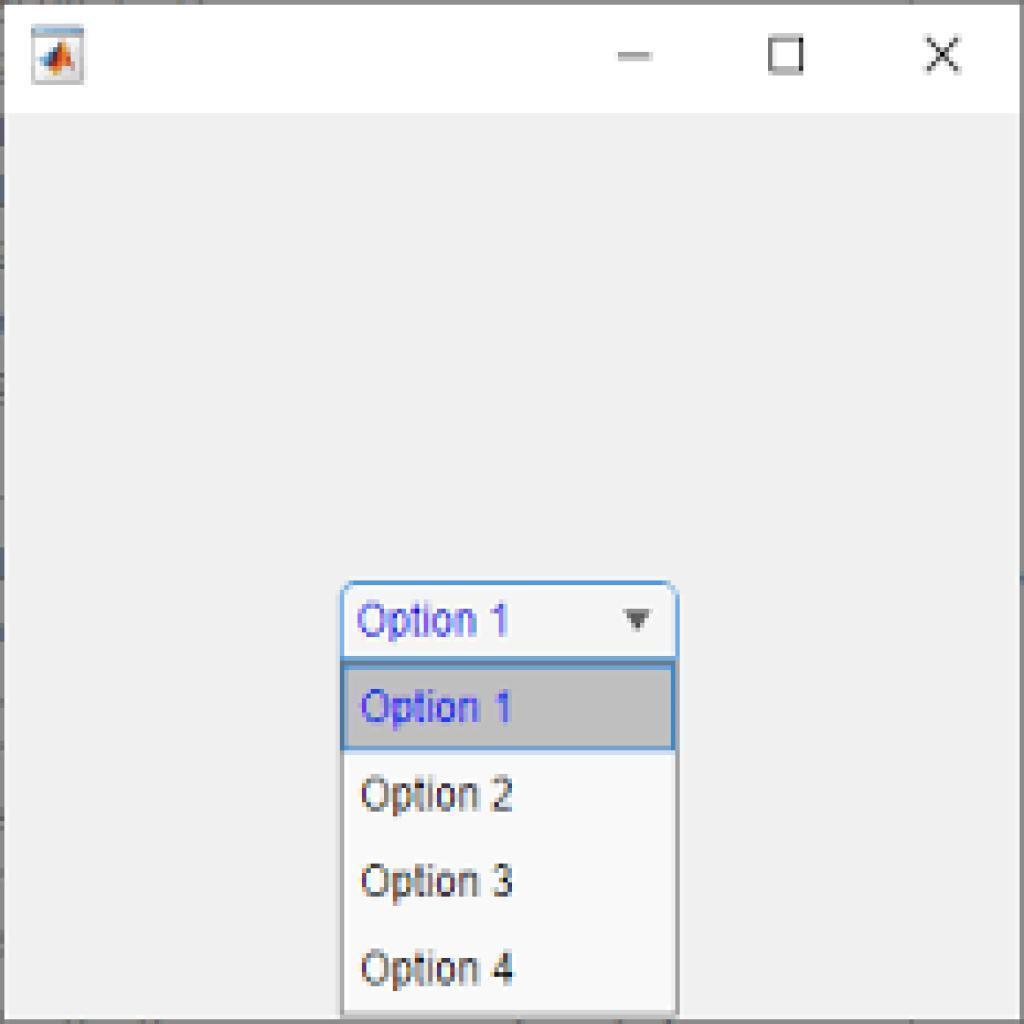button: (339, 662, 678, 751)
dropdown: (339, 580, 679, 660)
label: (361, 770, 519, 819), (361, 944, 523, 991), (357, 859, 519, 904)
